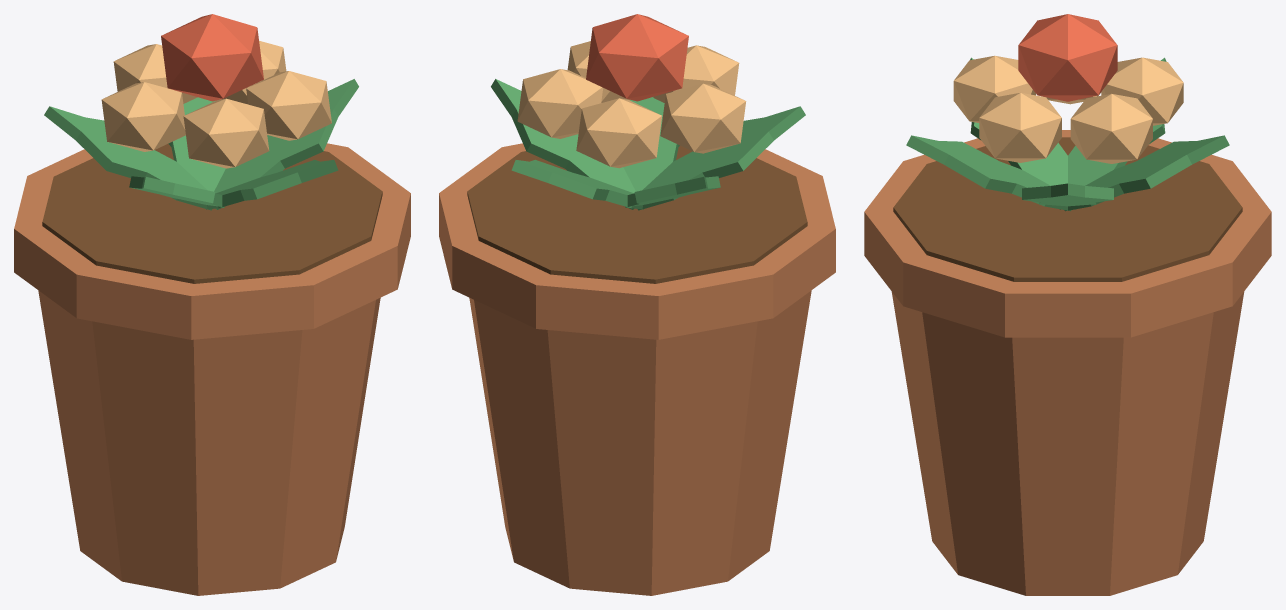
The model's file is sm_env_yard_flower_pot.glb.
3 views of the same model, side by side, from view 1: azimuth 30°, elevation 25°; view 2: azimuth 150°, elevation 25°; view 3: azimuth 270°, elevation 25° (orthographic).
Parts seen in each view (by area): view 1: Pot, Soil, PotRim, Bloom.005, Bloom.003, Bloom.002, Bloom.004, PotLeaf.002, PotLeaf, PotLeaf.004, Bloom.001, PotLeaf.001 (+2 smaller); view 2: Pot, PotRim, Soil, Bloom.005, Bloom.002, Bloom.001, Bloom, PotLeaf.003, PotLeaf, PotLeaf.001, Bloom.003, PotLeaf.004 (+2 smaller); view 3: Pot, PotRim, Soil, Bloom.005, Bloom.004, Bloom, PotLeaf.001, PotLeaf.004, Bloom.001, Bloom.003, PotLeaf, PotLeaf.003 (+1 smaller).
Boxes of the visible parts, box(x1,y1,x2,y2) form: Pot: box(38, 290, 380, 595); Soil: box(42, 144, 382, 283); PotRim: box(14, 143, 410, 339); Bloom.005: box(161, 14, 263, 101); Bloom.003: box(183, 98, 269, 168); Bloom.002: box(101, 82, 185, 151); Bloom.004: box(246, 71, 331, 140); PotLeaf.002: box(44, 106, 212, 210); PotLeaf: box(214, 79, 358, 209); PotLeaf.004: box(206, 159, 338, 209); Bloom.001: box(113, 44, 197, 103); PotLeaf.001: box(168, 97, 225, 191); Pot: box(469, 290, 811, 595); PotRim: box(439, 143, 835, 339); Soil: box(467, 145, 807, 283); Bloom.005: box(586, 14, 688, 101); Bloom.002: box(660, 83, 746, 153); Bloom.001: box(576, 98, 661, 168); Bloom: box(517, 69, 602, 138); PotLeaf.003: box(637, 106, 805, 210); PotLeaf: box(491, 79, 635, 209); PotLeaf.001: box(511, 159, 643, 209); Bloom.003: box(653, 45, 739, 102); PotLeaf.004: box(623, 97, 679, 191); Pot: box(891, 292, 1244, 595); PotRim: box(864, 130, 1271, 337); Soil: box(893, 137, 1242, 281); Bloom.005: box(1018, 14, 1117, 101); Bloom.004: box(979, 92, 1061, 162); Bloom: box(1070, 94, 1152, 163); PotLeaf.001: box(1064, 135, 1229, 211); PotLeaf.004: box(906, 135, 1071, 211); Bloom.001: box(1101, 57, 1183, 125); Bloom.003: box(953, 55, 1035, 122); PotLeaf: box(1022, 183, 1113, 206); PotLeaf.003: box(970, 57, 1067, 209).
Size of the model in its own units: 0.3994 by 0.6 by 0.42.
